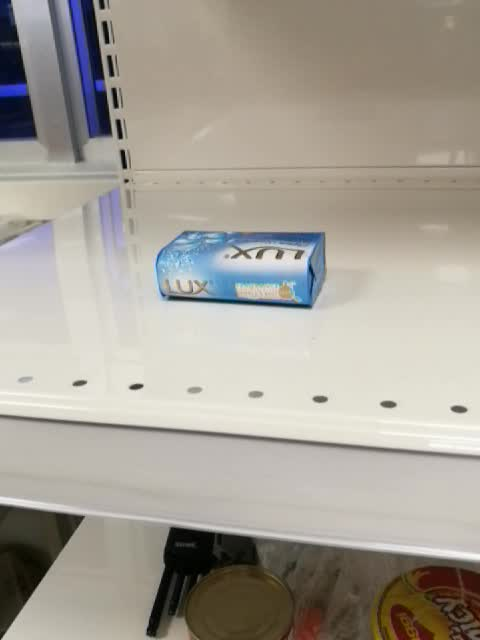soap: (154, 227, 330, 312)
